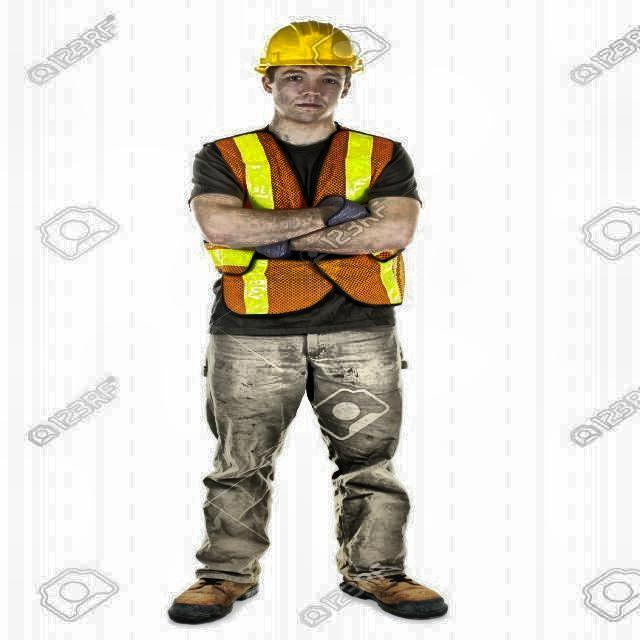safety_jacket: (205, 127, 407, 316)
